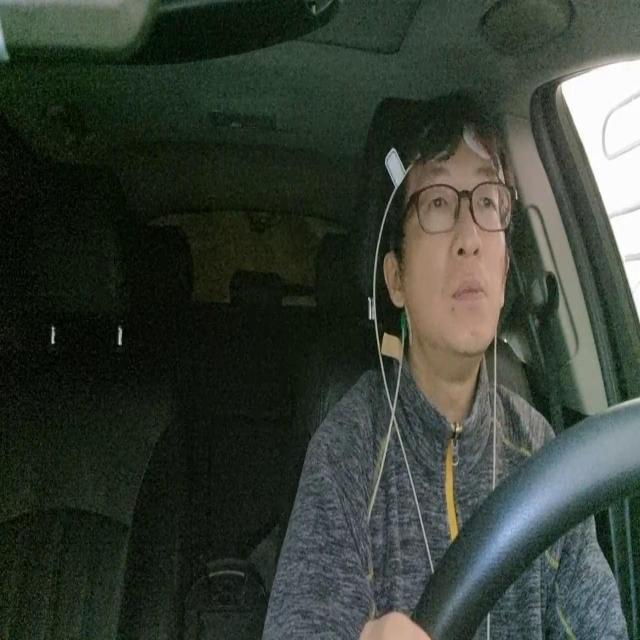Attentive: (372, 90, 508, 355)
